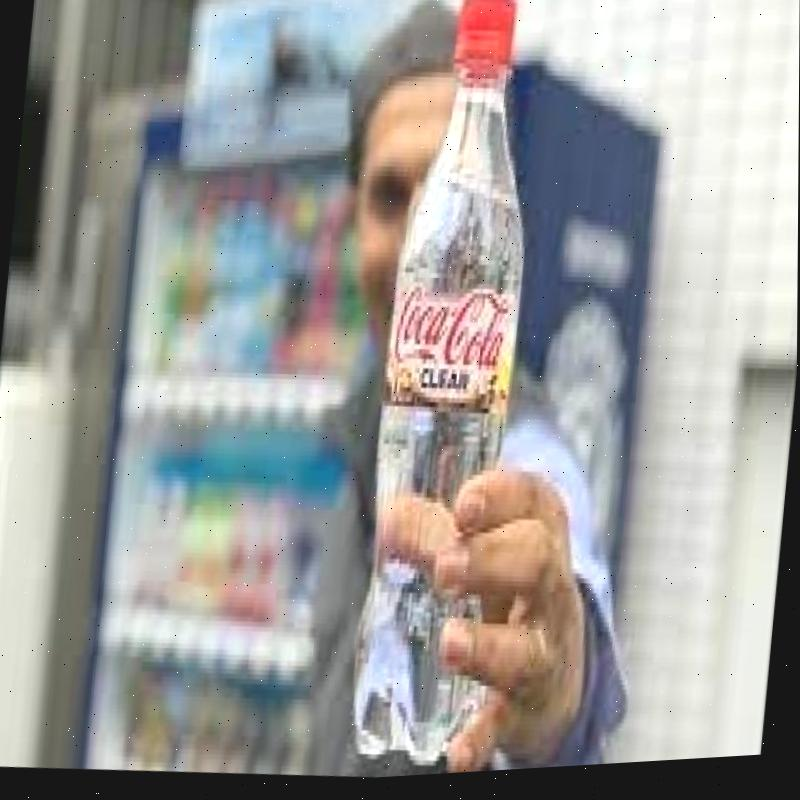botella: (346, 0, 552, 783)
